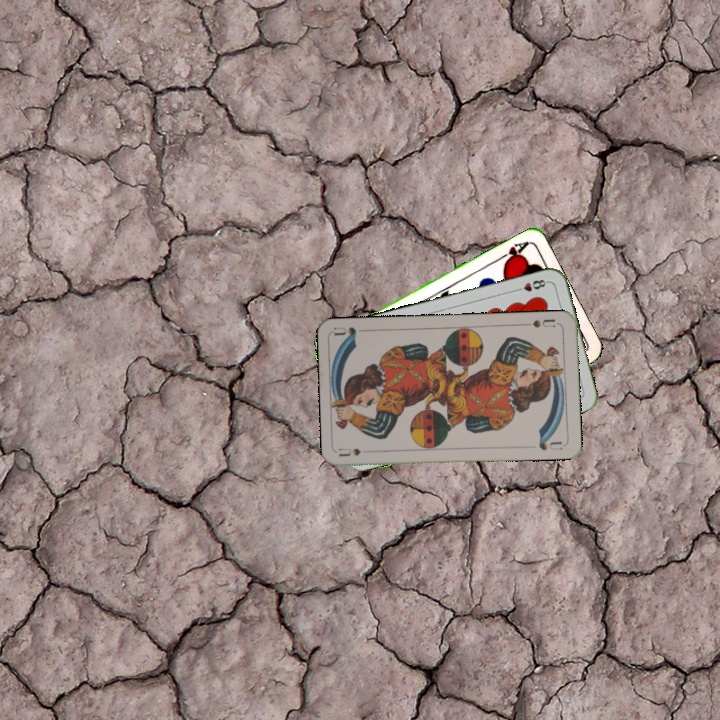H8: (511, 275, 551, 294)
HA: (493, 237, 531, 267)
SU: (336, 444, 377, 459), (521, 315, 561, 330)
